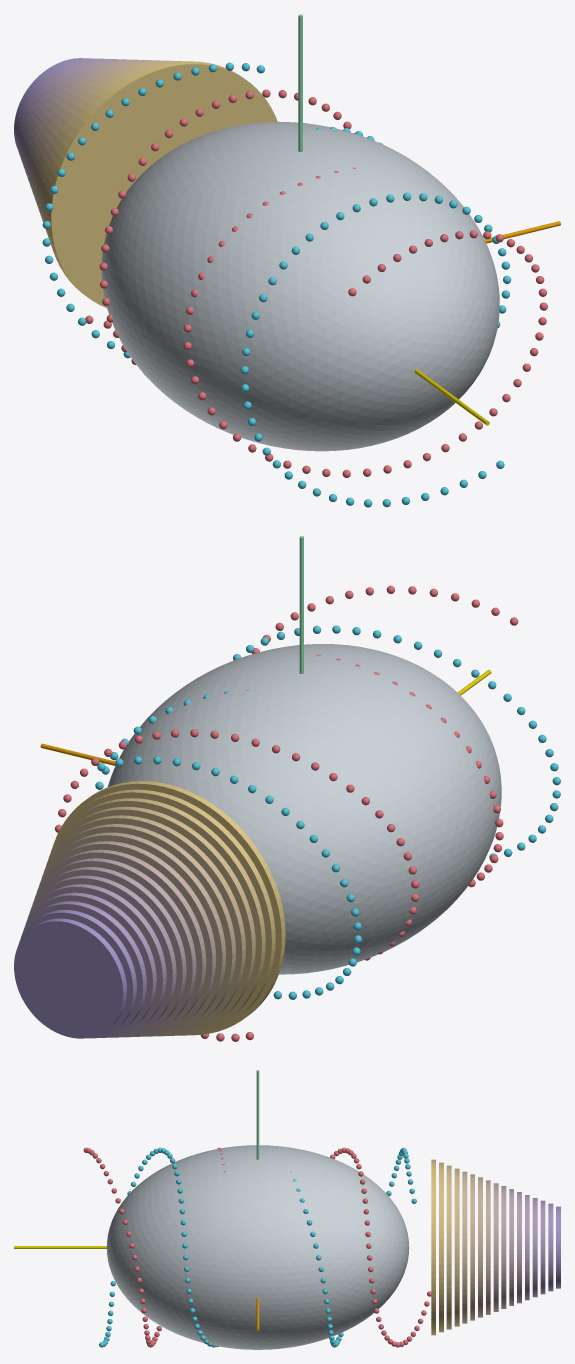
File: machina-17-floors.glb
3 renders of one model, top to bottom at view 1: azimuth 30°, elevation 25°; view 2: azimuth 150°, elevation 25°; view 3: azimuth 270°, elevation 25°, orthographic. The views are drawn at different scales.
Parts seen in each view (by area): view 1: ENKI_shell, Floor_1, Snake_Red, Snake_Cyan, Floor_2, Floor_3, Floor_4, Floor_5, Floor_6, Floor_7, Floor_8, Axis_Green (+3 smaller); view 2: ENKI_shell, Floor_17, Snake_Cyan, Floor_1, Floor_2, Snake_Red, Floor_3, Floor_4, Floor_5, Floor_6, Floor_7, Floor_8 (+9 smaller); view 3: ENKI_shell, Snake_Cyan, Snake_Red, Floor_3, Floor_4, Floor_5, Floor_1, Floor_2, Floor_9, Floor_10, Floor_6, Floor_7 (+9 smaller).
Boxes of the visible parts, box(x1,y1,x2,y2) form: ENKI_shell: box(101, 121, 499, 451); Floor_1: box(47, 61, 277, 307); Snake_Red: box(85, 89, 547, 477); Snake_Cyan: box(42, 62, 511, 507); Floor_2: box(45, 61, 186, 246); Floor_3: box(43, 61, 181, 238); Floor_4: box(41, 60, 172, 233); Floor_5: box(39, 60, 167, 222); Floor_6: box(37, 60, 159, 220); Floor_7: box(35, 60, 151, 214); Floor_8: box(33, 60, 147, 207); Axis_Green: box(298, 14, 302, 151); ENKI_shell: box(107, 644, 501, 974); Floor_17: box(14, 918, 126, 1038); Snake_Cyan: box(95, 625, 560, 999); Floor_1: box(53, 781, 285, 1035); Floor_2: box(51, 789, 275, 1035); Snake_Red: box(55, 585, 518, 1041); Floor_3: box(48, 798, 265, 1035); Floor_4: box(46, 806, 255, 1035); Floor_5: box(44, 815, 245, 1036); Floor_6: box(42, 824, 235, 1036); Floor_7: box(39, 832, 225, 1036); Floor_8: box(37, 841, 216, 1036); ENKI_shell: box(106, 1145, 409, 1349); Snake_Cyan: box(99, 1147, 416, 1347); Snake_Red: box(83, 1147, 431, 1347); Floor_3: box(446, 1165, 451, 1329); Floor_4: box(454, 1168, 459, 1326); Floor_5: box(462, 1171, 467, 1323); Floor_1: box(431, 1159, 435, 1335); Floor_2: box(439, 1162, 443, 1332); Floor_9: box(493, 1183, 498, 1311); Floor_10: box(501, 1186, 506, 1308); Floor_6: box(470, 1174, 474, 1320); Floor_7: box(478, 1177, 482, 1317).
Size of the model in its own units: 3.25 by 3 by 5.61.
